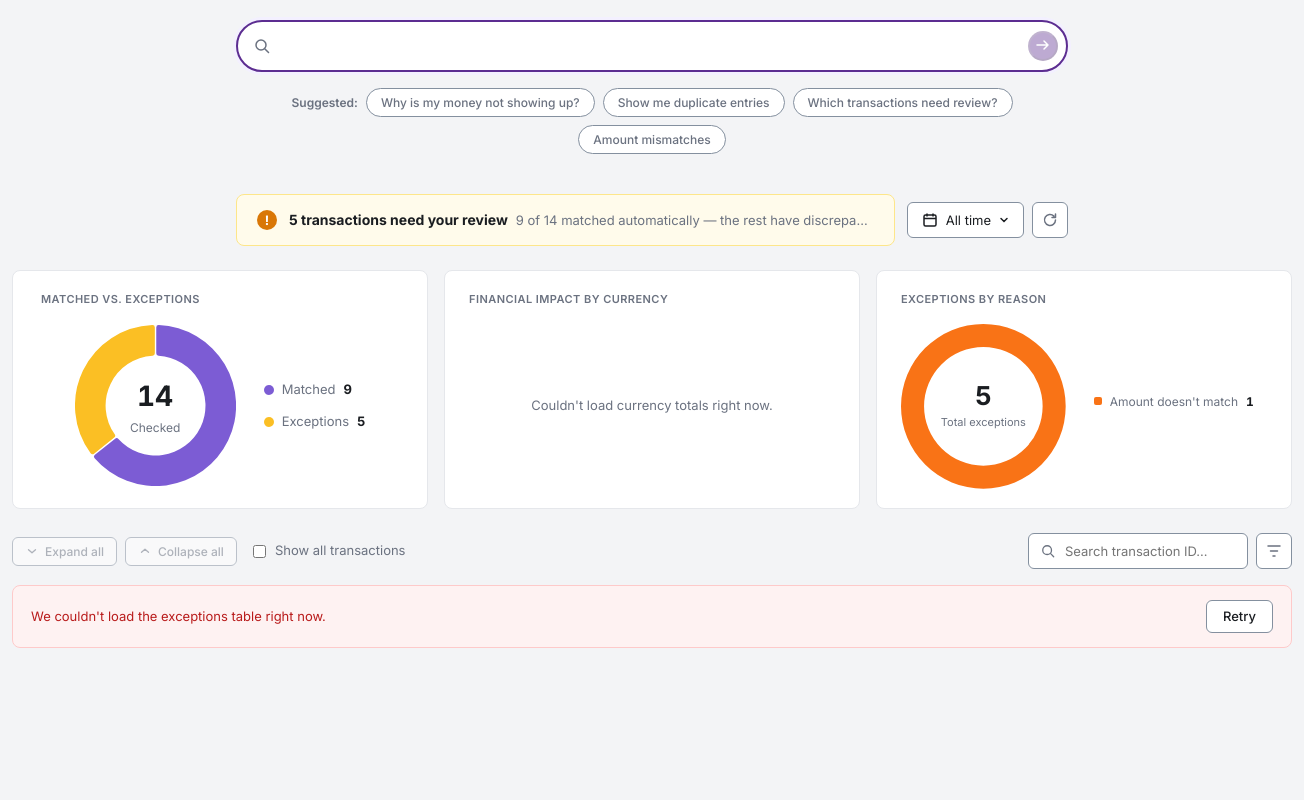
Scenario: Dashboard › shows a scoped error with retry for the exceptions table, without affecting the rest of the page
Expected: the text "5 transactions need your review" is shown, top-left (289, 209), bottom-right (508, 230)
Expected: the message "We couldn't load the exceptions table right now. Retry" is shown, top-left (12, 585), bottom-right (1292, 648)
Click the button "Retry" at (1240, 617), box top-left (1206, 600), bottom-right (1273, 633)
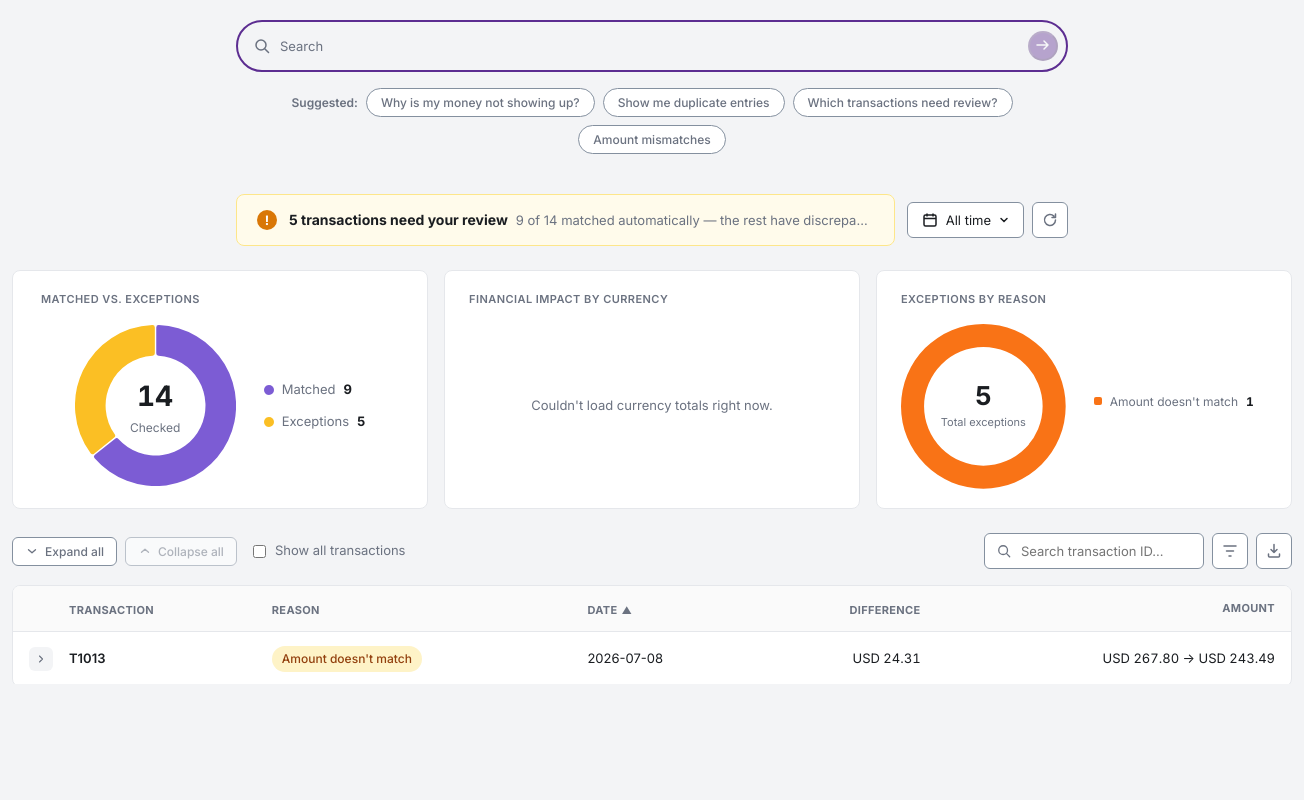
Expected: the table is shown, top-left (13, 586), bottom-right (1291, 684)
Expected: the message "We couldn't load the exceptions table right now. Retry" is gone
